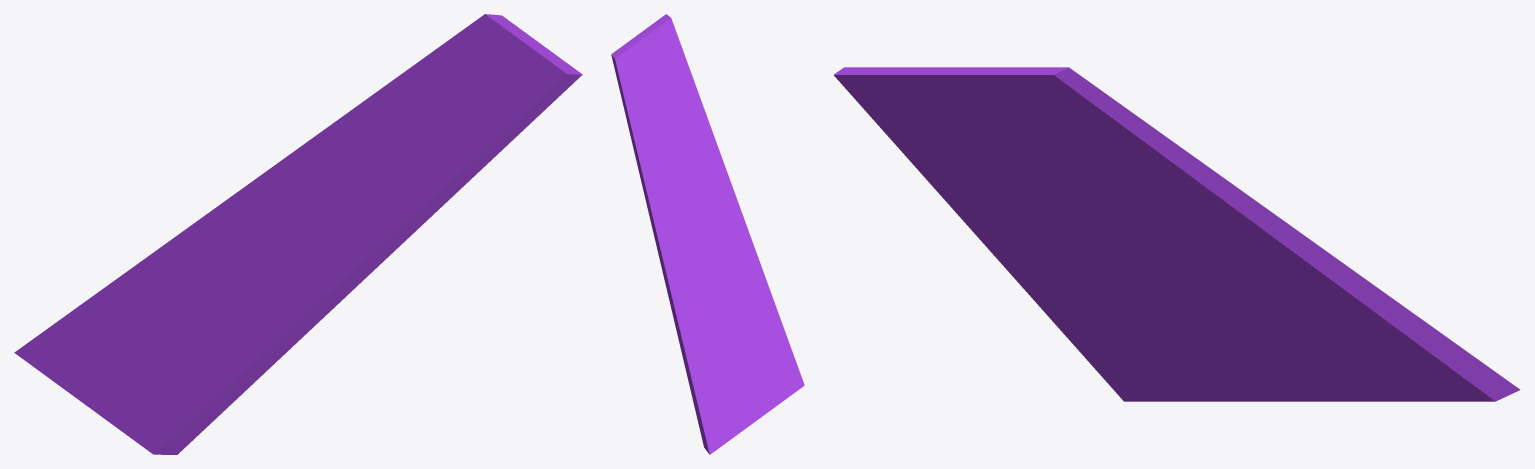
Rendered from Window_65_chunks.fbx.
3 views of the same model, side by side, from view 1: azimuth 30°, elevation 25°; view 2: azimuth 150°, elevation 25°; view 3: azimuth 270°, elevation 25° (orthographic). The views are drawn at different scales.
Visible parts, largest first — view 1: Window_65_0, Window_65_2, Window_65_14, Window_65_3, Window_65_8, Window_65_10, Window_65_13, Window_65_15, Window_65_7, Window_65_6, Window_65_9, Window_65_12 (+1 smaller); view 2: Window_65_0, Window_65_14, Window_65_3, Window_65_2, Window_65_8, Window_65_10, Window_65_13, Window_65_7, Window_65_15, Window_65_6, Window_65_12, Window_65_11 (+1 smaller); view 3: Window_65_14, Window_65_2, Window_65_6, Window_65_8, Window_65_7, Window_65_4, Window_65_13, Window_65_10, Window_65_15, Window_65_9, Window_65_3, Window_65_0 (+3 smaller).
Boxes of the visible parts, x1,y1,x2,y2 form: Window_65_0: (14, 288, 185, 431); Window_65_2: (122, 312, 288, 454); Window_65_14: (374, 14, 561, 178); Window_65_3: (167, 207, 314, 328); Window_65_8: (280, 184, 408, 357); Window_65_10: (400, 59, 582, 202); Window_65_13: (256, 134, 358, 220); Window_65_15: (318, 23, 472, 140); Window_65_7: (16, 217, 202, 351); Window_65_6: (196, 179, 286, 255); Window_65_9: (407, 148, 503, 237); Window_65_12: (357, 136, 376, 190); Window_65_0: (699, 334, 782, 454); Window_65_14: (611, 24, 689, 171); Window_65_3: (685, 222, 749, 335); Window_65_2: (736, 261, 804, 400); Window_65_8: (691, 155, 762, 270); Window_65_10: (652, 14, 711, 155); Window_65_13: (644, 173, 700, 251); Window_65_7: (671, 296, 709, 454); Window_65_15: (617, 69, 663, 199); Window_65_6: (657, 237, 693, 309); Window_65_12: (662, 160, 692, 185); Window_65_11: (680, 126, 698, 176); Window_65_14: (891, 67, 1122, 199); Window_65_2: (1050, 294, 1244, 401); Window_65_6: (1115, 224, 1339, 300); Window_65_8: (958, 193, 1132, 317); Window_65_7: (1315, 260, 1520, 401); Window_65_4: (1179, 299, 1416, 401); Window_65_13: (1075, 179, 1288, 238); Window_65_10: (833, 67, 999, 176); Window_65_15: (1080, 75, 1229, 191); Window_65_9: (889, 137, 1010, 214); Window_65_3: (1079, 264, 1237, 334); Window_65_0: (1241, 367, 1360, 401).
Size of the model in its own units: 824 by 960 by 1138.
